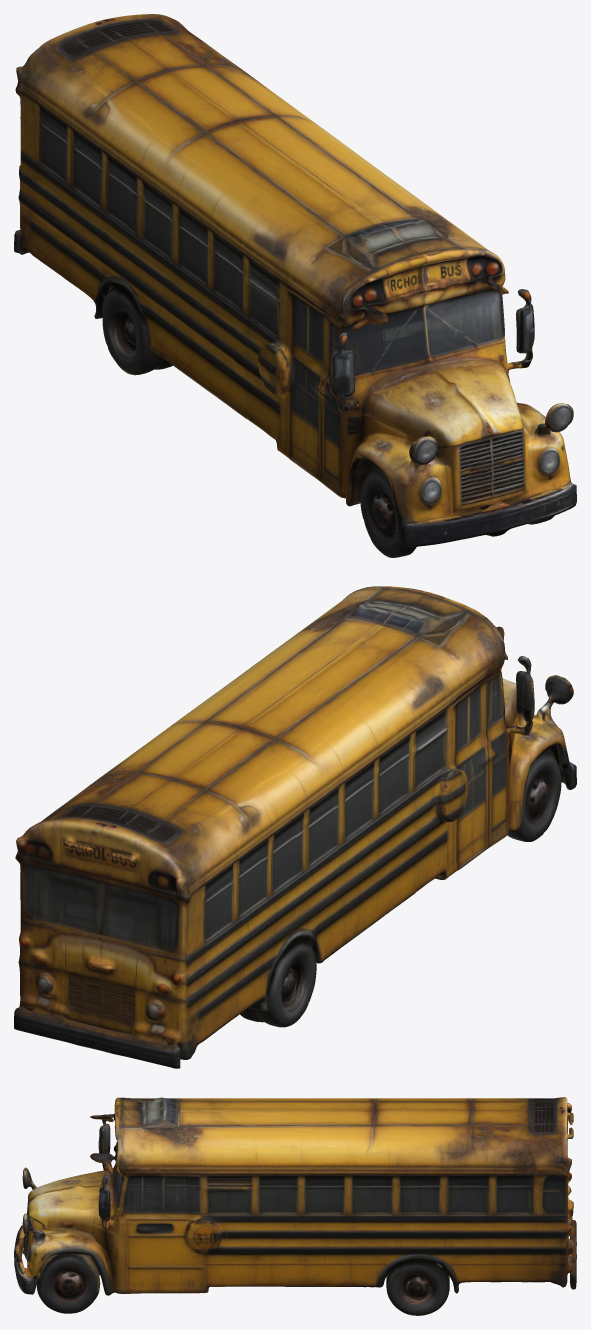
Rendered from bus.glb.
3 renders of one model, top to bottom at view 1: azimuth 30°, elevation 25°; view 2: azimuth 150°, elevation 25°; view 3: azimuth 270°, elevation 25°, orthographic. The views are drawn at different scales.
Bounding box in the file's own units: 0.5824 × 0.7059 × 2.
1 material, 1 textured.
